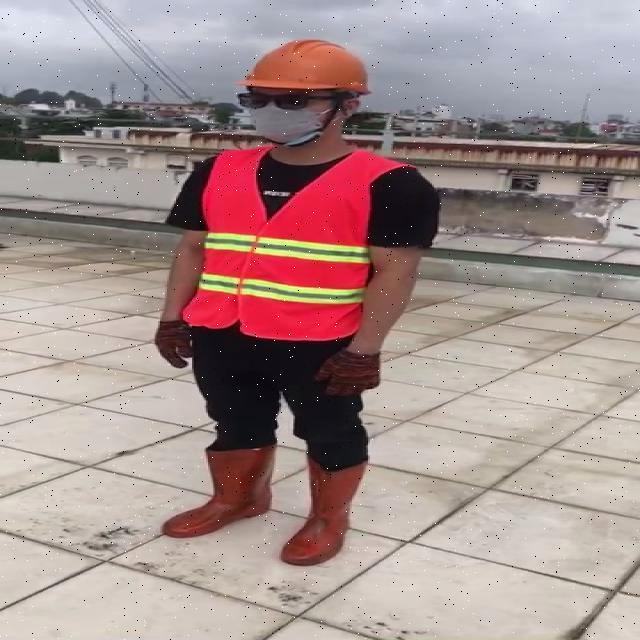Hard_hat: (232, 36, 378, 109)
Vest: (196, 141, 378, 342)
